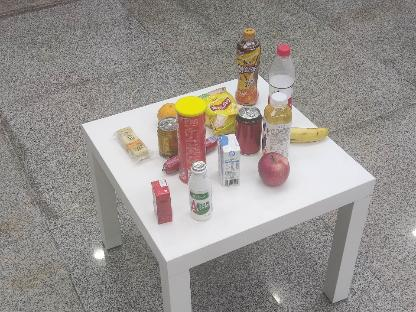Can: (236, 106, 262, 154), (156, 116, 180, 160)
Others: (174, 96, 206, 184), (147, 176, 177, 226), (217, 132, 243, 188)
Plastic Bottle: (266, 39, 298, 115)
